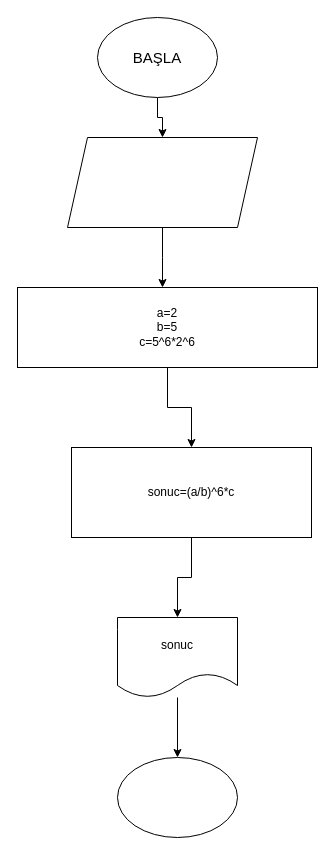
This 335x855 diagram has some shape labels left out. Each missing label, with the centre of its shape:
a,b,c,sonuc=null;: point 162,182
BİTİR: point 177,797
